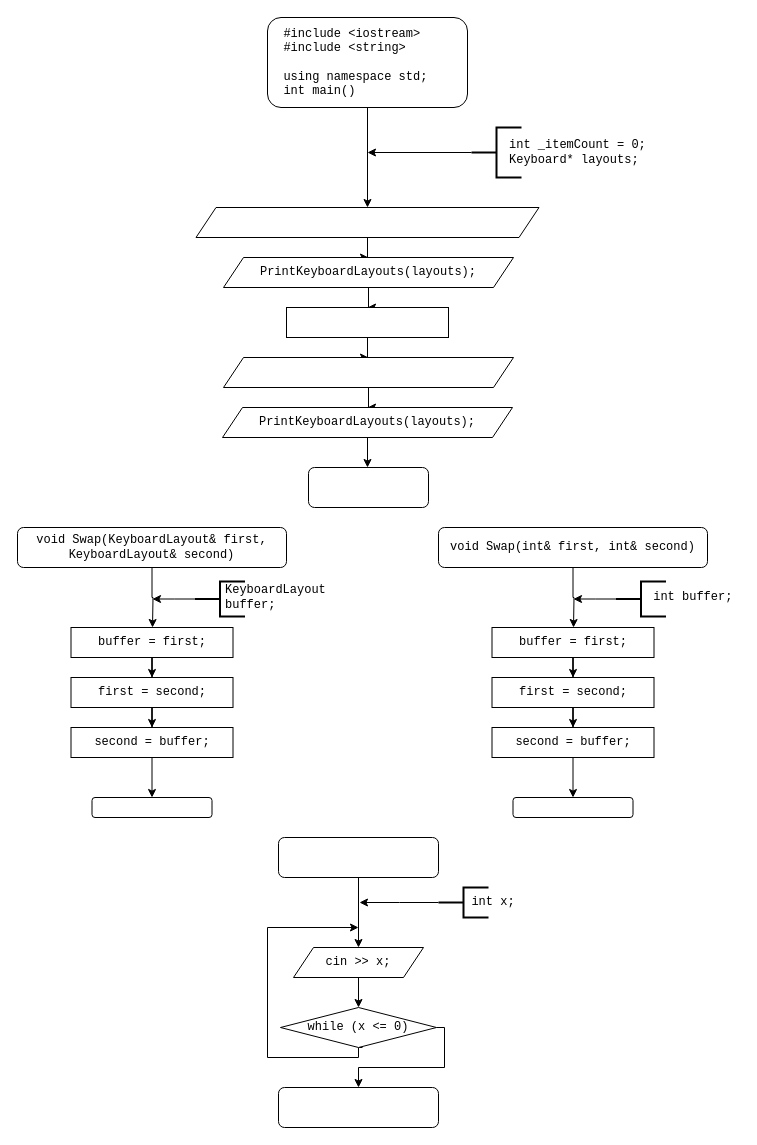
This 757x1145 diagram has some shape labels left out. The shapes that lost their labels are listed below. From the top down, each one's box as (x1, y1, x2, y2) in pixels, then its label:
(195, 206, 539, 238): KeyboardLayout* layouts = InputNewLayouts();
(286, 306, 448, 338): HoareSort(layouts);
(222, 356, 514, 388): cout << "Sorted array:" << endl;
(308, 466, 428, 508): return 0;
(278, 836, 438, 878): int ReadNaturalNum()
(278, 1086, 438, 1128): return x;
